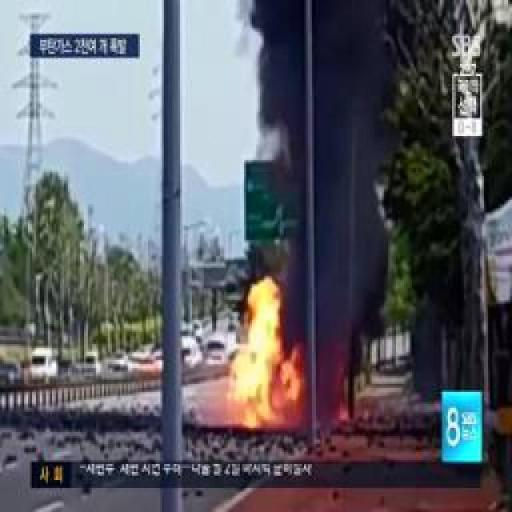smoke: (230, 284, 282, 430)
